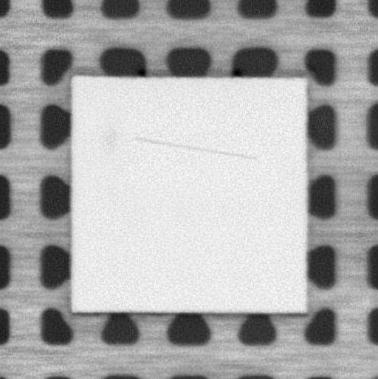DIE_CRACK: (133, 136, 258, 159)
